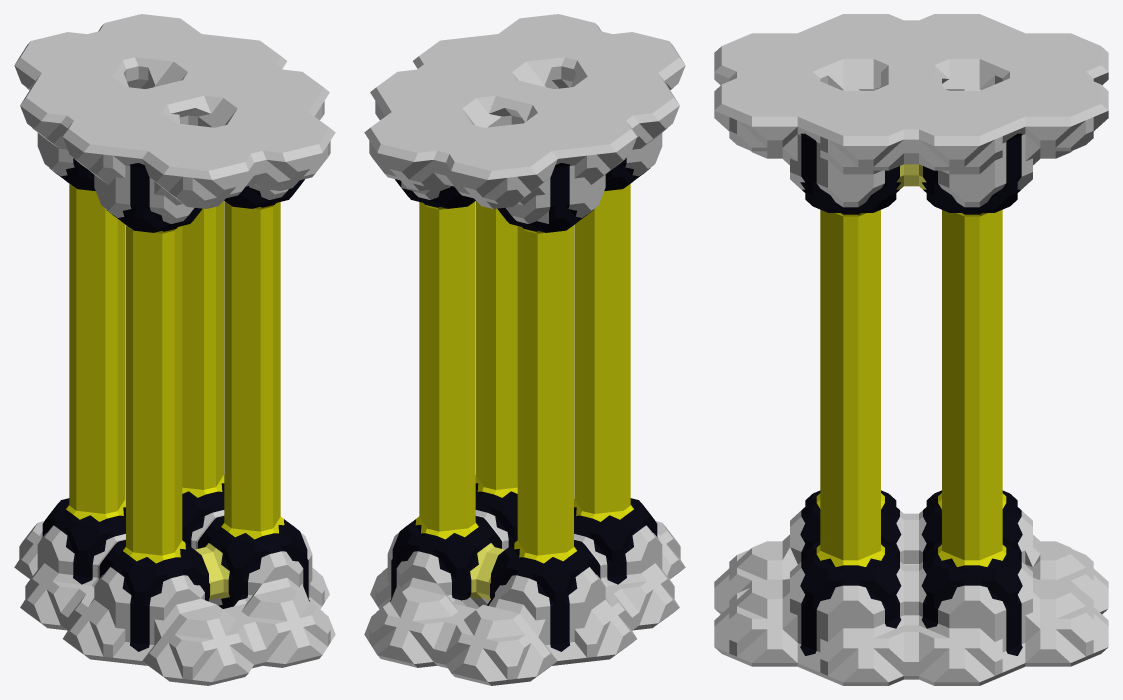
The picture shows the model from 3 angles, left to right: view 1: azimuth 30°, elevation 25°; view 2: azimuth 150°, elevation 25°; view 3: azimuth 270°, elevation 25°; orthographic projection. The views are drawn at different scales.
Parts seen in each view (by area): view 1: pylon.001; view 2: pylon.001; view 3: pylon.001.
Boxes of the visible parts, x1,y1,x2,y2 form: pylon.001: [14, 14, 335, 685]; pylon.001: [364, 14, 685, 685]; pylon.001: [714, 14, 1108, 685].
Bounding box in the file's own units: 200 × 400 × 260.
